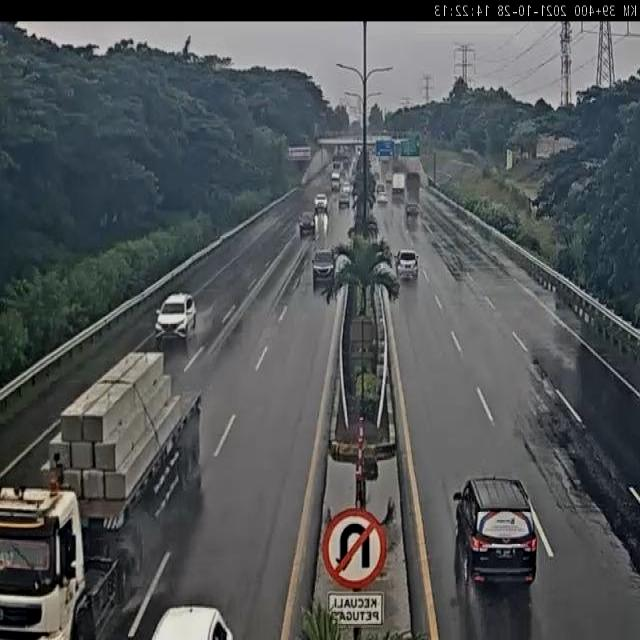Car: (453, 476, 537, 592), (146, 607, 234, 640), (154, 292, 197, 344), (310, 247, 336, 284), (395, 250, 420, 280), (297, 210, 317, 233), (314, 193, 328, 212), (406, 201, 420, 218), (337, 191, 350, 209), (376, 190, 387, 204), (376, 182, 385, 194), (342, 181, 350, 192)
Truck: (0, 349, 201, 640), (406, 172, 421, 193), (391, 173, 405, 192), (384, 168, 395, 182)
